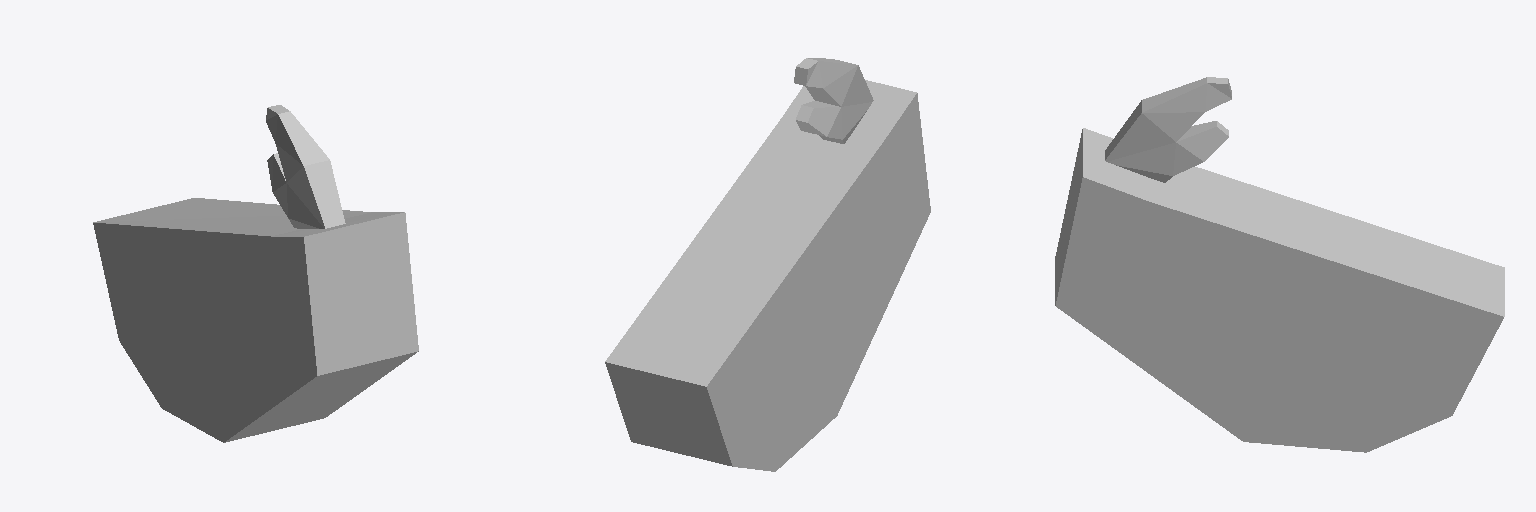
Rendered from hen-01.obj.
3 renders of one model, left to right at view 1: azimuth 30°, elevation 25°; view 2: azimuth 150°, elevation 25°; view 3: azimuth 270°, elevation 25°, orthographic.
Parts seen in each view (by area): view 1: Plane; view 2: Plane; view 3: Plane.
Part boxes in pixels (left/top/right/bottom): Plane: left=93, top=105, right=418, bottom=442; Plane: left=605, top=58, right=930, bottom=471; Plane: left=1055, top=77, right=1504, bottom=452.
Bounding box in the file's own units: 0.131 × 0.4234 × 0.5012.